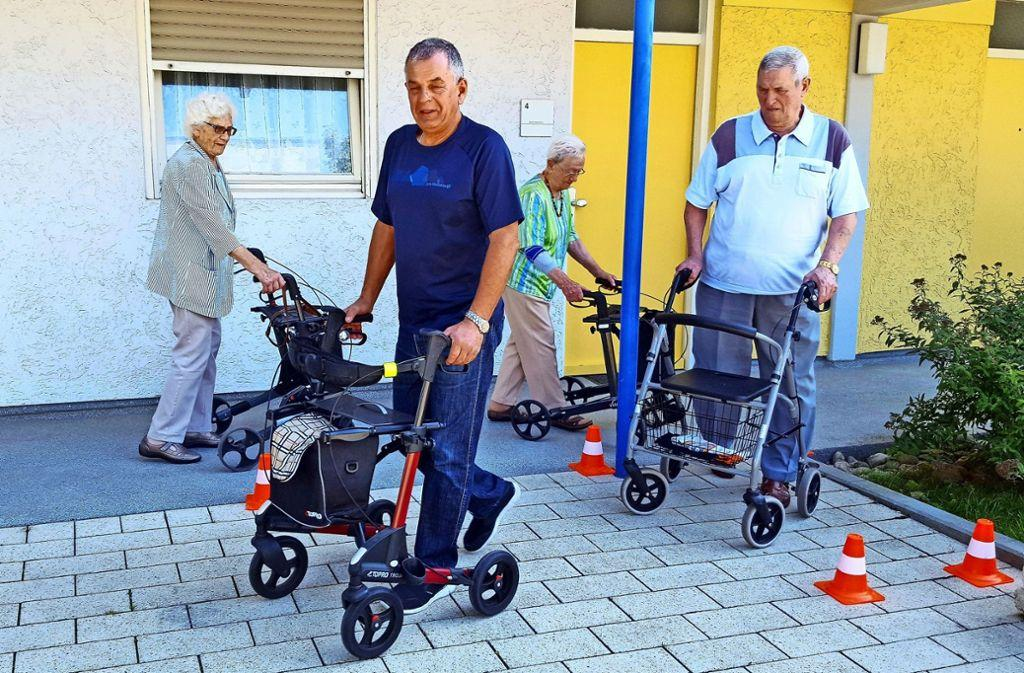walking_frame: (248, 37, 521, 658), (620, 46, 870, 548), (139, 93, 363, 473), (487, 136, 676, 441)
